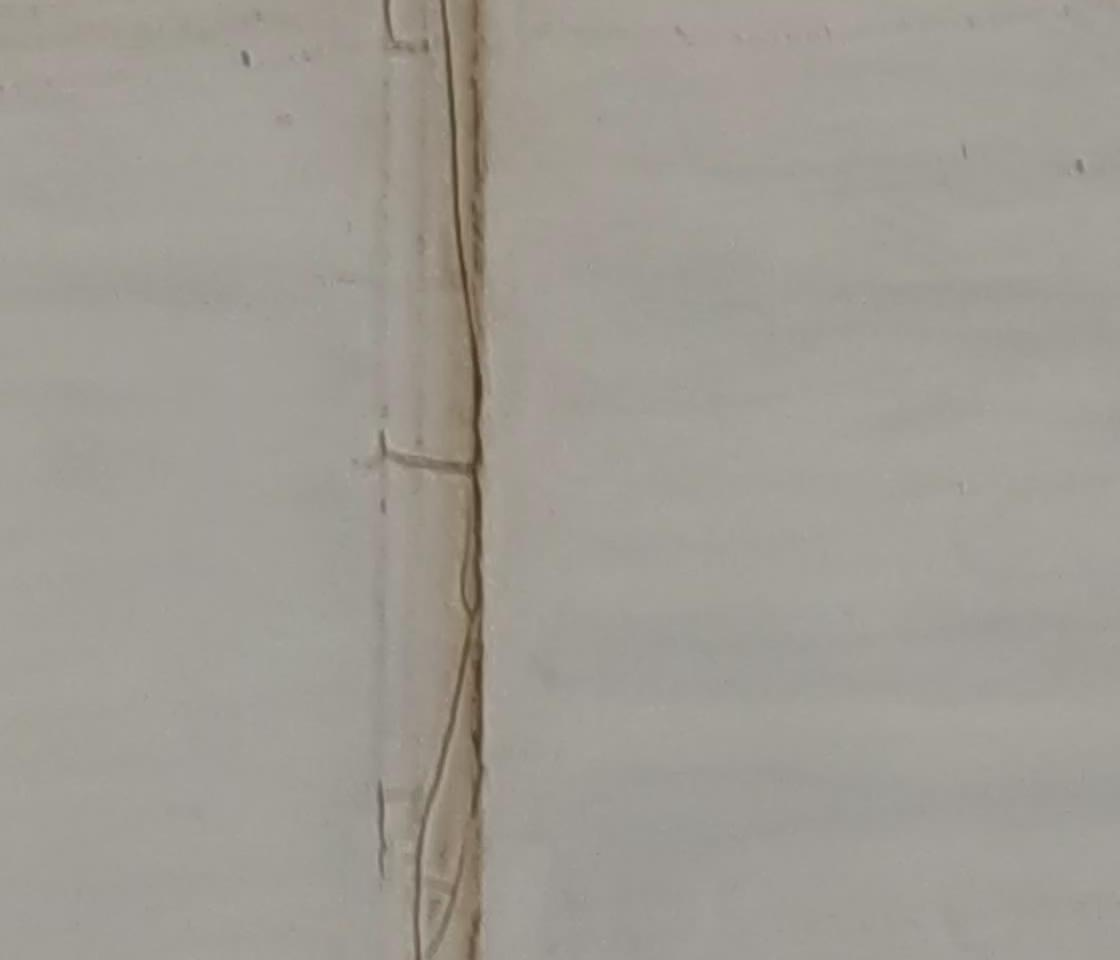scratch: (358, 773, 397, 897)
